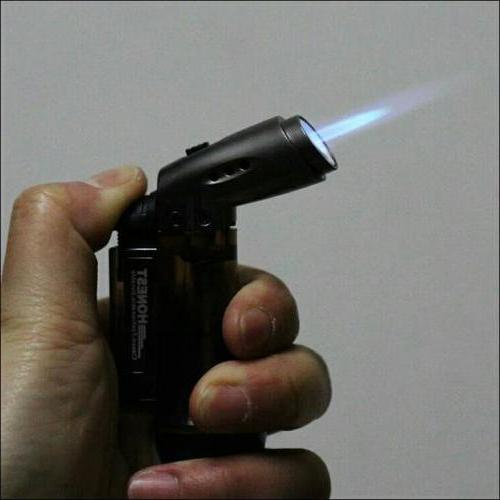fire: (293, 92, 422, 151)
